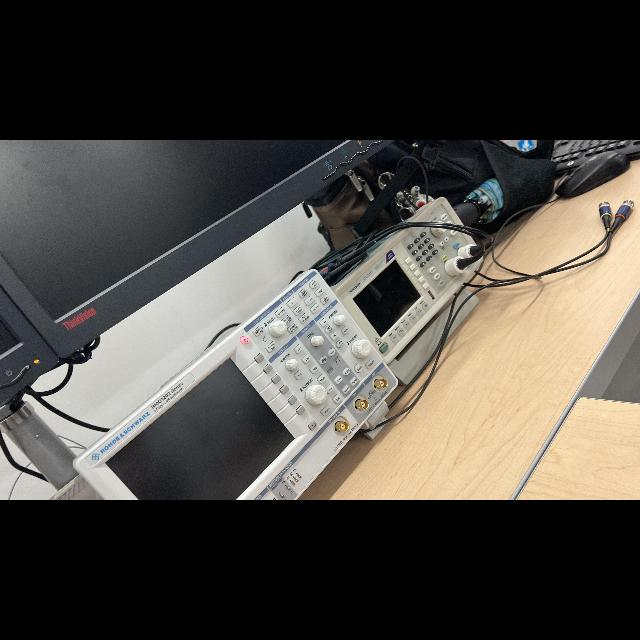Digital-Oscilloscope: (71, 270, 397, 499)
